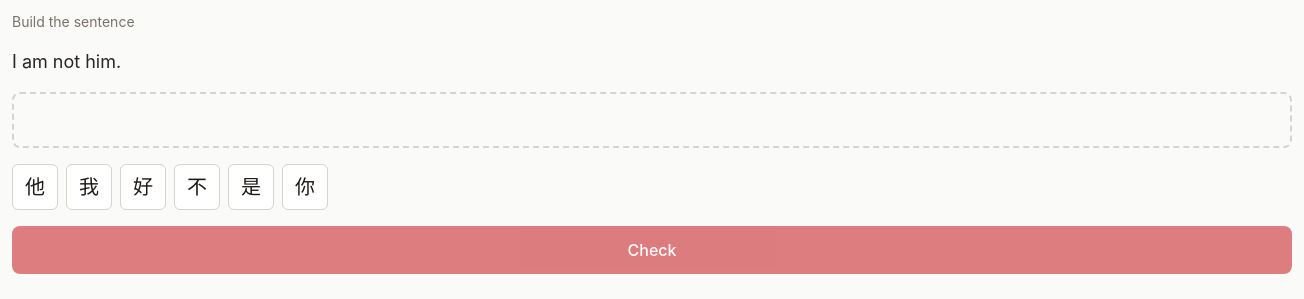
Test: SentenceBuilder › returns a placed tile to the bank when tapped again
The image size is (1304, 299).
Click the button "好".
click(143, 187)  # box [120,164,166,210]
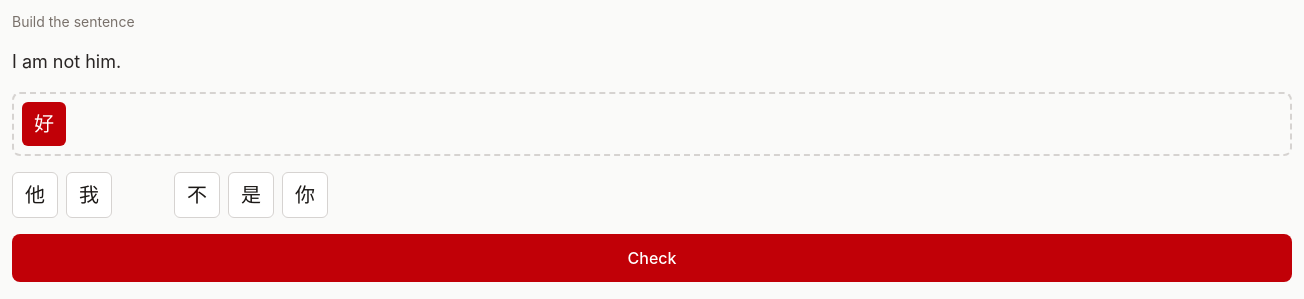
Click the button "好".
click(44, 124)  # box [22,102,66,146]
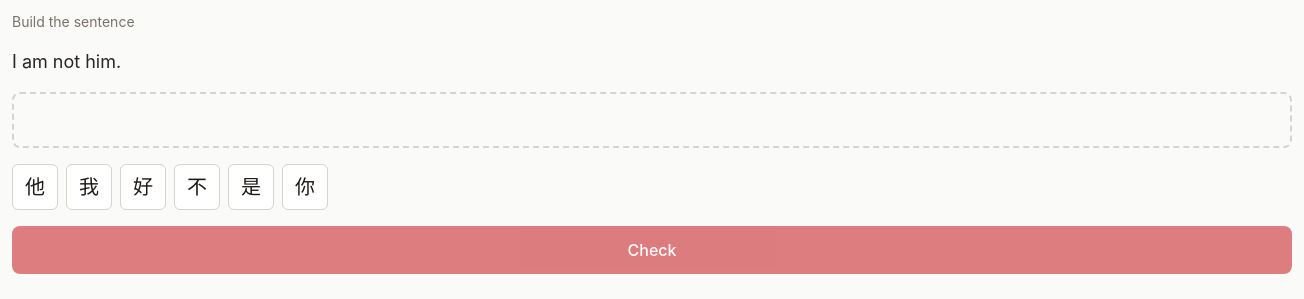
Now the button "Check" is disabled, box [12,226,1292,274]
